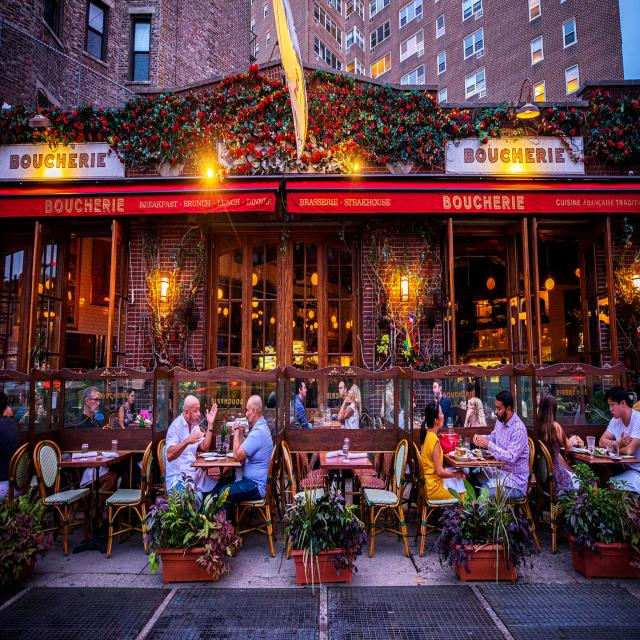person: (218, 396, 278, 524), (414, 397, 474, 523), (160, 380, 203, 525), (481, 392, 527, 527), (541, 386, 587, 507), (599, 385, 640, 499), (291, 376, 329, 444), (332, 374, 372, 437), (116, 384, 150, 436), (74, 381, 102, 441), (424, 370, 454, 415)
